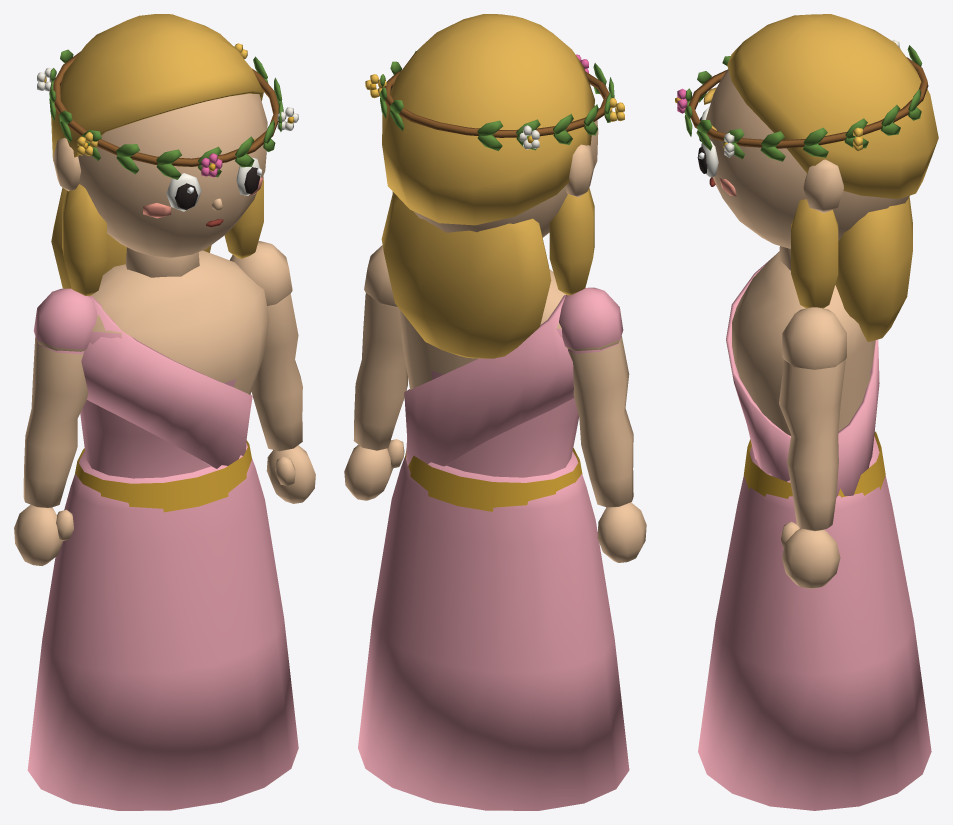
File: taenzerin.glb
3 renders of one model, left to right at view 1: azimuth 30°, elevation 25°; view 2: azimuth 150°, elevation 25°; view 3: azimuth 270°, elevation 25°, orthographic.
Parts seen in each view (by area): view 1: huefte, rumpf, haare, kopf, armL, armR, kopfschmuck, augeL, augeR; view 2: huefte, haare, rumpf, armL, armR, kopfschmuck, kopf; view 3: huefte, haare, rumpf, armR, kopf, kopfschmuck, augeR.
Part boxes in pixels (<box>): huefte: <box>27,443,298,810</box>; rumpf: <box>75,250,269,512</box>; haare: <box>51,14,263,296</box>; kopf: <box>53,93,267,277</box>; armL: <box>14,288,97,565</box>; armR: <box>230,241,315,503</box>; kopfschmuck: <box>37,43,298,179</box>; augeL: <box>166,173,201,211</box>; augeR: <box>236,157,261,195</box>; huefte: <box>358,451,629,810</box>; haare: <box>381,14,594,358</box>; rumpf: <box>400,269,582,511</box>; armL: <box>559,287,646,562</box>; armR: <box>344,245,407,500</box>; kopfschmuck: <box>365,51,624,150</box>; kopf: <box>413,120,598,237</box>; huefte: <box>698,436,931,810</box>; haare: <box>727,14,938,341</box>; rumpf: <box>726,251,885,498</box>; armR: <box>779,307,846,588</box>; kopf: <box>706,69,909,270</box>; kopfschmuck: <box>675,39,928,161</box>; augeR: <box>697,140,718,177</box>.
Size of the model in its own units: 0.9329 by 2.28 by 0.7336.
